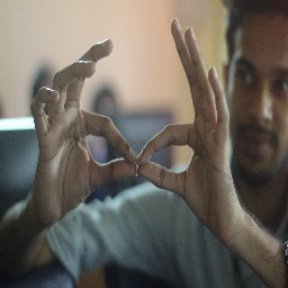B: (60, 88, 221, 211)
